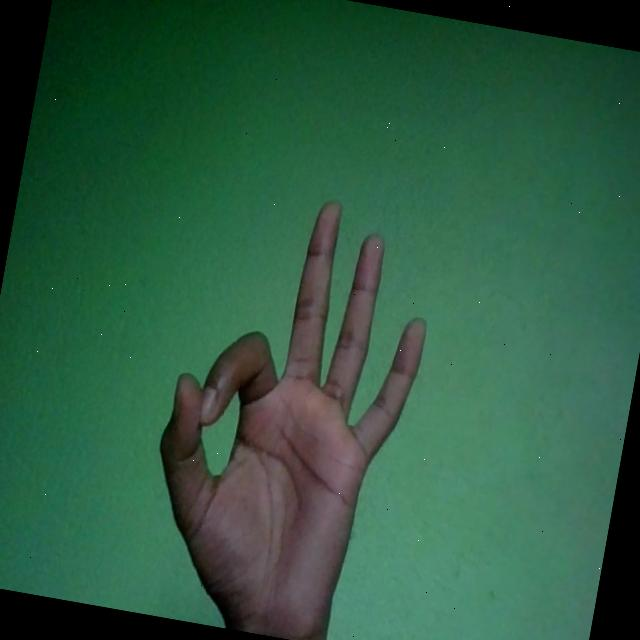Rock On: (127, 176, 445, 640)
